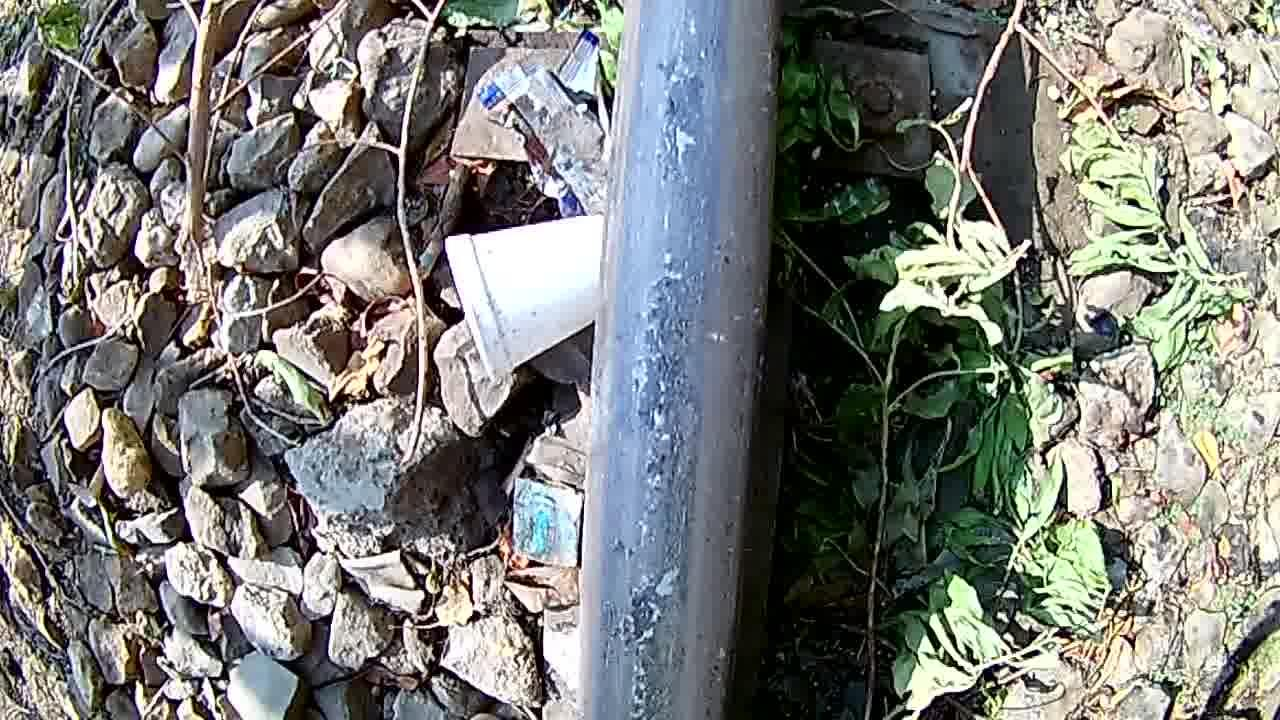crack: (597, 0, 763, 720)
